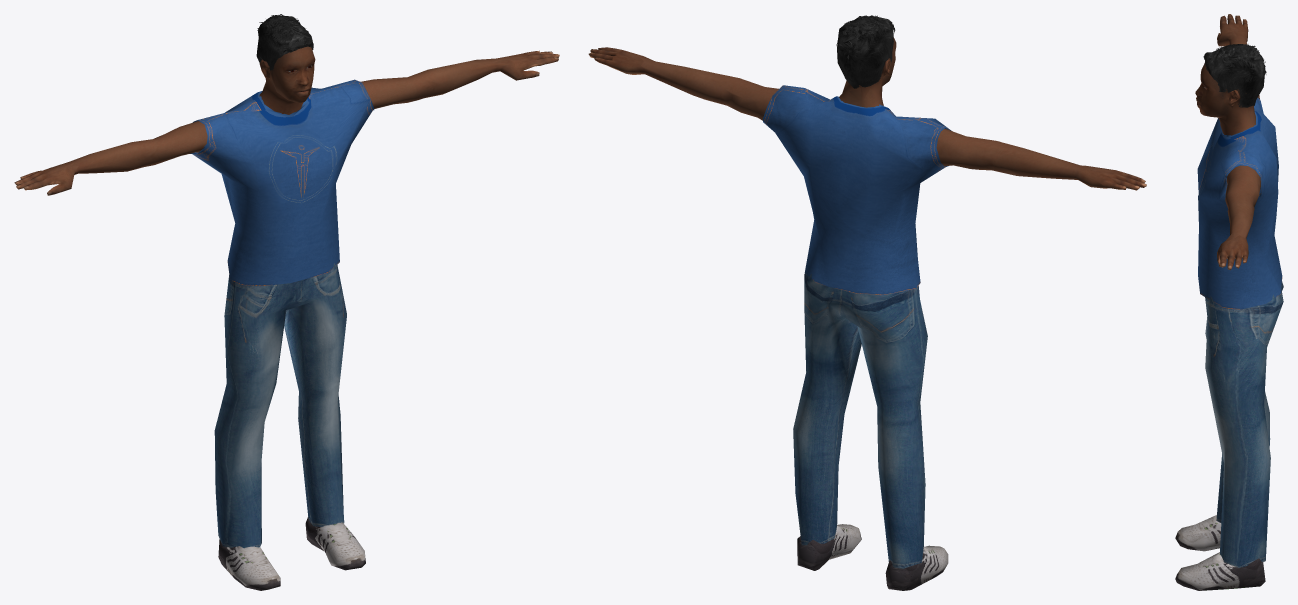
The model's file is black_male_short_shirt.fbx.
The picture shows the model from 3 angles, left to right: view 1: azimuth 30°, elevation 25°; view 2: azimuth 150°, elevation 25°; view 3: azimuth 270°, elevation 25°; orthographic projection. The views are drawn at different scales.
Visible parts, largest first — view 1: male_casualsuit04Mesh.001, black_human_male_short_shirtMesh, shoes05Mesh.001, short01Mesh.001; view 2: male_casualsuit04Mesh.001, black_human_male_short_shirtMesh, short01Mesh.001, shoes05Mesh.001; view 3: male_casualsuit04Mesh.001, black_human_male_short_shirtMesh, shoes05Mesh.001, short01Mesh.001.
Part boxes in pixels (<box>): male_casualsuit04Mesh.001: <box>190,79,374,548</box>; black_human_male_short_shirtMesh: <box>14,46,559,195</box>; shoes05Mesh.001: <box>218,517,365,590</box>; short01Mesh.001: <box>256,14,313,70</box>; male_casualsuit04Mesh.001: <box>762,85,951,568</box>; black_human_male_short_shirtMesh: <box>588,37,1146,190</box>; short01Mesh.001: <box>836,15,895,88</box>; shoes05Mesh.001: <box>797,524,948,590</box>; male_casualsuit04Mesh.001: <box>1197,97,1283,567</box>; black_human_male_short_shirtMesh: <box>1195,14,1260,270</box>; shoes05Mesh.001: <box>1175,515,1265,590</box>; short01Mesh.001: <box>1203,44,1266,107</box>.
Size of the model in its own units: 194 by 186 by 35.16.
